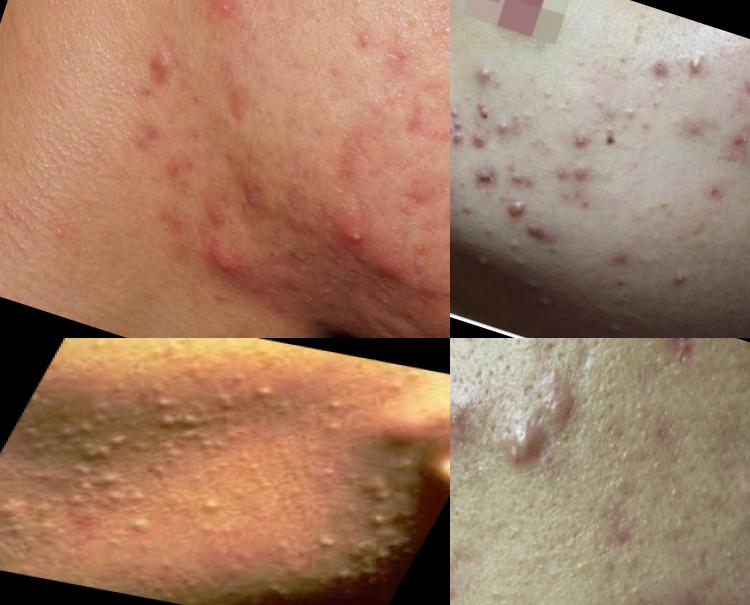acne_scars: (648, 339, 712, 398)
papular: (516, 212, 561, 250), (563, 163, 608, 194), (469, 159, 504, 197), (562, 127, 602, 156), (725, 120, 750, 159), (603, 243, 636, 272), (504, 164, 534, 191), (451, 195, 480, 222), (468, 132, 488, 162)
purulent: (677, 45, 717, 90), (462, 56, 503, 92), (501, 194, 537, 225)
sebo-crystan-conglo: (185, 227, 279, 304), (488, 415, 562, 487), (322, 211, 400, 267), (451, 400, 474, 449)
whitehead: (54, 461, 165, 520), (42, 418, 144, 470), (200, 362, 291, 418), (131, 394, 222, 437), (134, 434, 213, 481), (1, 489, 70, 537), (340, 471, 405, 509), (491, 104, 537, 155), (338, 530, 390, 563), (112, 511, 164, 543), (307, 410, 358, 441), (183, 490, 233, 519), (643, 191, 687, 223), (662, 263, 698, 302), (607, 43, 642, 81), (604, 272, 642, 307), (533, 80, 566, 120), (313, 390, 358, 417), (302, 529, 347, 555), (358, 507, 402, 533), (320, 562, 363, 588), (667, 103, 696, 135), (616, 100, 645, 125), (520, 270, 545, 296), (511, 251, 534, 275), (539, 295, 563, 317), (652, 77, 671, 101), (451, 91, 466, 121), (507, 237, 534, 253), (475, 255, 495, 273)
